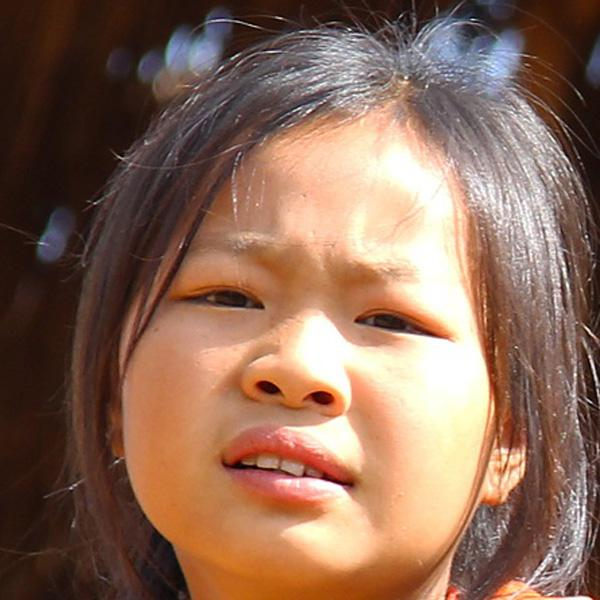Eyes: (346, 296, 454, 350), (172, 271, 274, 323)
